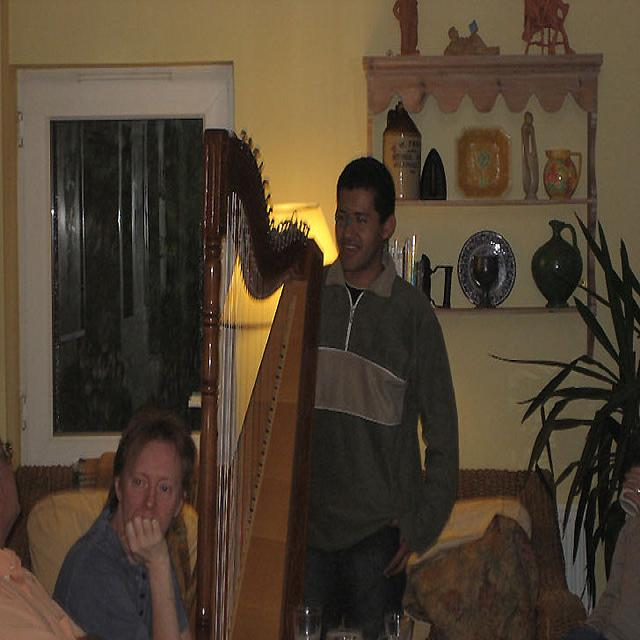harp: (168, 124, 323, 640)
